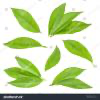Peach leaf: (9, 7, 42, 33), (50, 11, 84, 36), (62, 39, 93, 63), (49, 67, 88, 86), (48, 2, 68, 36), (2, 35, 47, 50), (54, 20, 93, 36), (15, 56, 41, 77), (42, 45, 62, 71), (55, 77, 94, 90), (6, 76, 44, 89), (4, 66, 37, 80)
